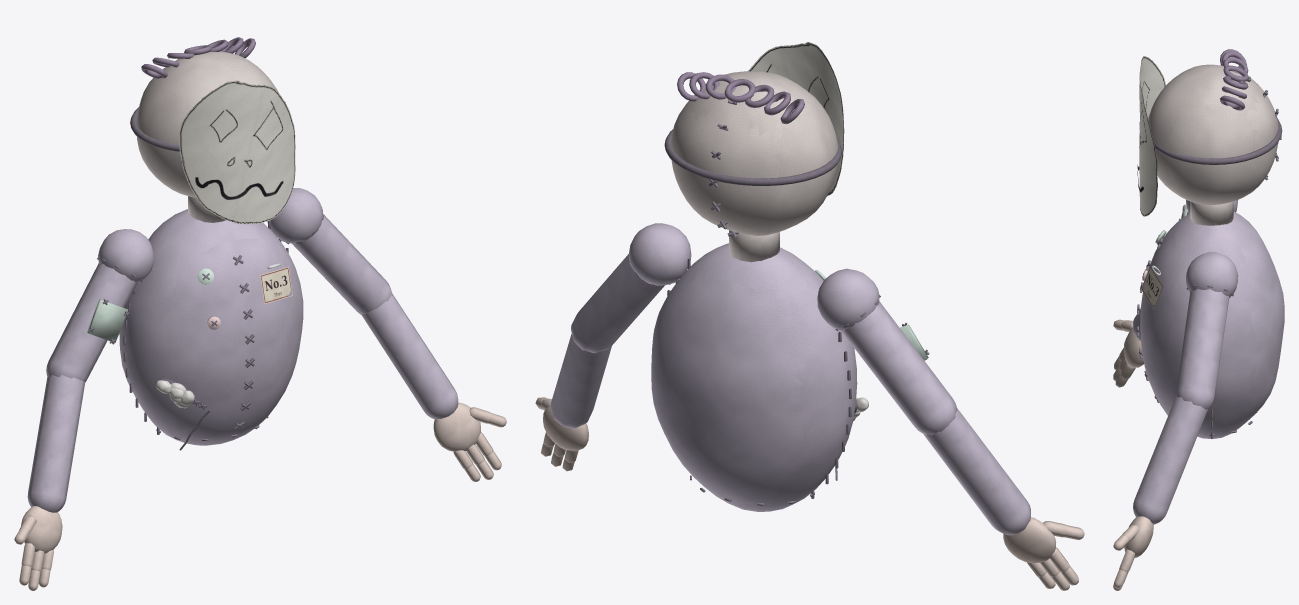
The model's file is LeDessine_trimesh.glb.
3 views of the same model, side by side, from view 1: azimuth 30°, elevation 25°; view 2: azimuth 150°, elevation 25°; view 3: azimuth 270°, elevation 25° (orthographic). The views are drawn at different scales.
Parts seen in each view (by area): view 1: Corps, Masque_Papier, Tete_Tissu, AvantBras_D, AvantBras_G, BrasHaut_D, BrasHaut_G, Epaule_Boule_D, Epaule_Boule_G, Paume_G, Paume_D, Piece_Rapiecee (+1 smaller); view 2: Corps, Tete_Tissu, BrasHaut_D, AvantBras_D, BrasHaut_G, Masque_Papier, AvantBras_G, Epaule_Boule_G, Epaule_Boule_D, Elastique, Paume_D, Cou (+1 smaller); view 3: Corps, Tete_Tissu, BrasHaut_G, AvantBras_G, Masque_Papier, Epaule_Boule_G, Elastique, Cou, Paume_G, Paume_D, Etiquette, Laine_3 (+1 smaller).
Part boxes in pixels (x1=…): Corps: x1=119, y1=209, x2=303, y2=445; Masque_Papier: x1=179, y1=80, x2=295, y2=224; Tete_Tissu: x1=137, y1=51, x2=278, y2=197; AvantBras_D: x1=27, y1=375, x2=85, y2=512; AvantBras_G: x1=361, y1=294, x2=458, y2=419; BrasHaut_D: x1=46, y1=263, x2=137, y2=381; BrasHaut_G: x1=292, y1=214, x2=392, y2=314; Epaule_Boule_D: x1=98, y1=229, x2=154, y2=282; Epaule_Boule_G: x1=267, y1=188, x2=322, y2=243; Paume_G: x1=433, y1=402, x2=480, y2=451; Paume_D: x1=21, y1=506, x2=62, y2=553; Piece_Rapiecee: x1=87, y1=299, x2=127, y2=342; Corps: x1=651, y1=243, x2=857, y2=511; Tete_Tissu: x1=671, y1=71, x2=837, y2=235; BrasHaut_D: x1=841, y1=301, x2=957, y2=435; AvantBras_D: x1=923, y1=408, x2=1030, y2=535; BrasHaut_G: x1=571, y1=255, x2=664, y2=353; Masque_Papier: x1=748, y1=42, x2=844, y2=196; AvantBras_G: x1=550, y1=334, x2=611, y2=428; Epaule_Boule_G: x1=629, y1=223, x2=691, y2=285; Epaule_Boule_D: x1=817, y1=268, x2=879, y2=331; Elastique: x1=664, y1=129, x2=841, y2=185; Paume_D: x1=1003, y1=517, x2=1056, y2=563; Cou: x1=729, y1=230, x2=779, y2=262; Corps: x1=1140, y1=211, x2=1284, y2=438; Tete_Tissu: x1=1148, y1=64, x2=1278, y2=204; BrasHaut_G: x1=1176, y1=289, x2=1229, y2=410; AvantBras_G: x1=1133, y1=396, x2=1207, y2=524; Masque_Papier: x1=1139, y1=56, x2=1165, y2=216; Epaule_Boule_G: x1=1186, y1=252, x2=1238, y2=297; Elastique: x1=1154, y1=118, x2=1282, y2=164; Cou: x1=1190, y1=201, x2=1233, y2=225; Paume_G: x1=1124, y1=516, x2=1153, y2=557; Paume_D: x1=1124, y1=327, x2=1144, y2=367; Etiquette: x1=1141, y1=265, x2=1163, y2=309; Laine_3: x1=1223, y1=65, x2=1248, y2=81.
Bounding box in the file's own units: 1.11 × 0.9964 × 0.356.
16 materials, 10 textured.
